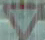Give way: (2, 1, 39, 39)
